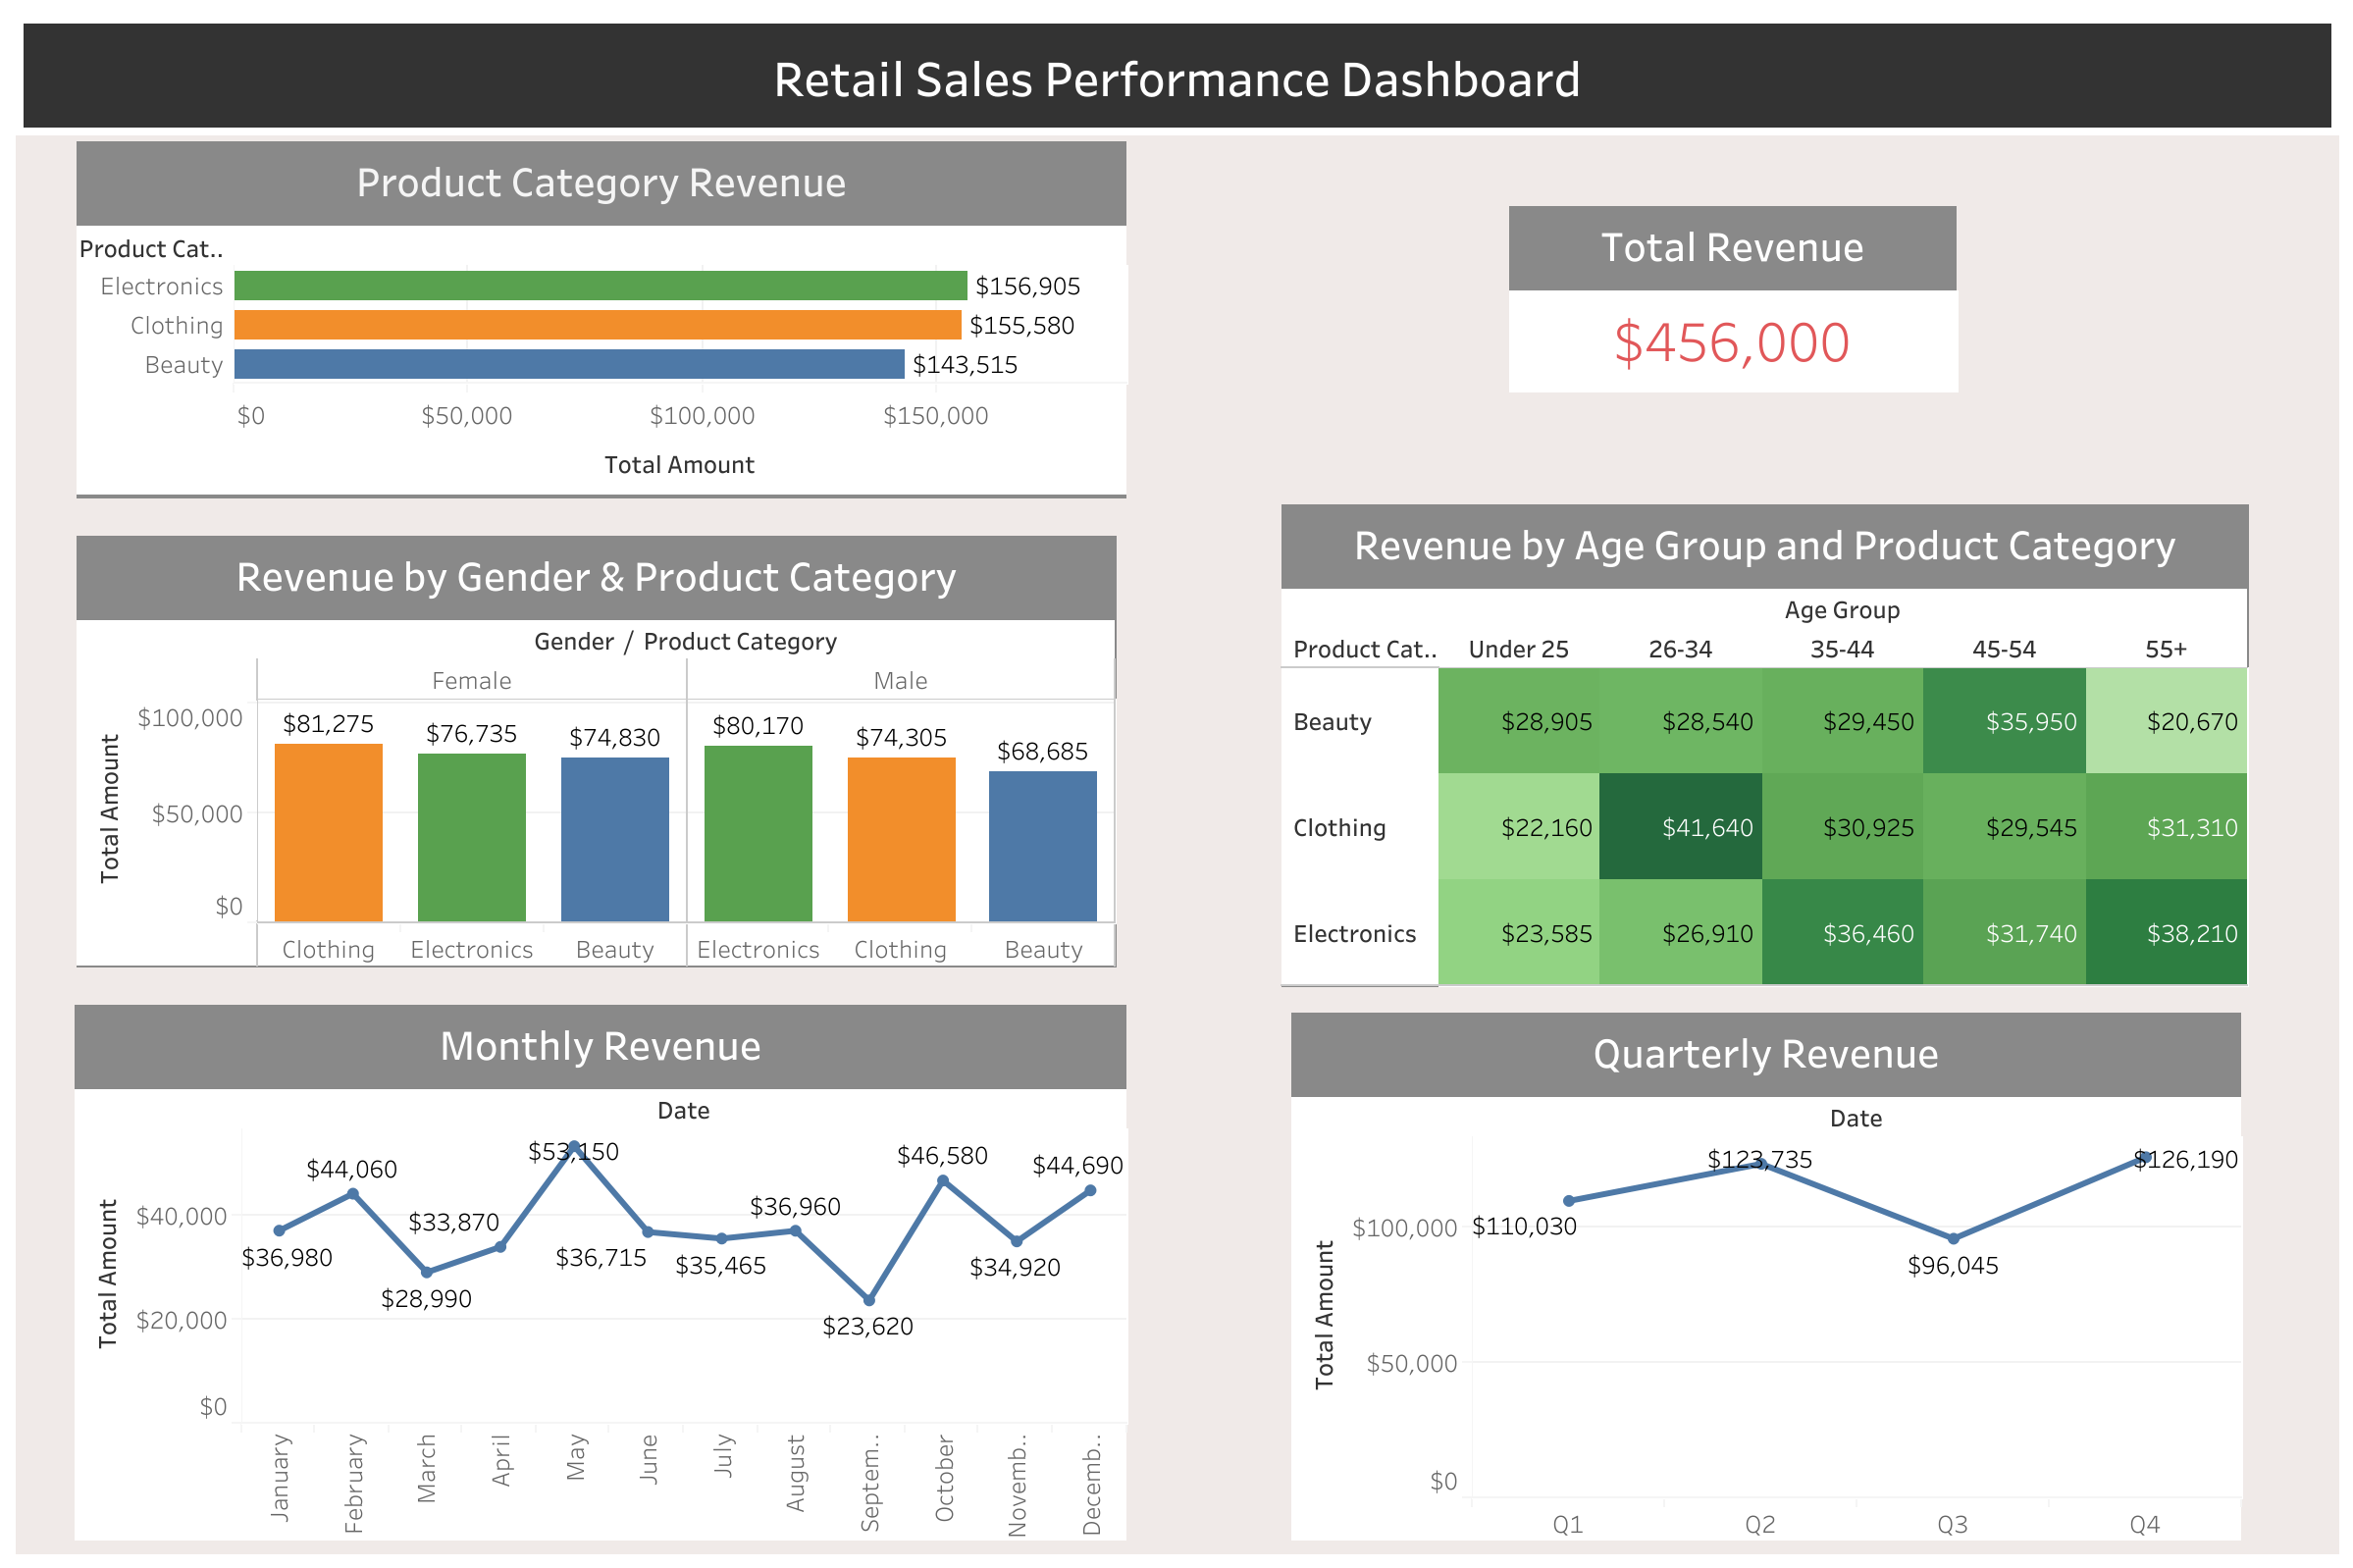

What the dashboard file says about the page in this screenshot:
{"tool":"tableau","page":{"name":"Retail Sales Performance Dashboard","canvas":[1200,800],"ordinal":0},"visuals":[{"type":"title","box":[8,8,1184,61]},{"type":"worksheet","title":"Product Category Revenue","mark":"Automatic","rows":["Product_Category"],"cols":["Total_Amount"],"box":[39,72,535,182]},{"type":"worksheet","title":"Total Revenue","mark":"Automatic","box":[769,105,228,94]},{"type":"worksheet","title":"Revenue by Age Group and Product Category","mark":"Automatic","rows":["Product_Category"],"cols":["Age_Group"],"box":[653,257,493,246]},{"type":"worksheet","title":"Revenue by Gender","mark":"Automatic","rows":["Total_Amount"],"cols":["Gender","Product_Category"],"box":[39,273,530,220]},{"type":"worksheet","title":"Monthly Revenue","mark":"Automatic","rows":["Total_Amount"],"cols":["Date"],"box":[38,512,536,273]},{"type":"worksheet","title":"Quarterly Revenue","mark":"Automatic","rows":["Total_Amount"],"cols":["Date"],"box":[658,516,484,269]}]}

Visuals, with their boxes in screenshot pixels (x1, y1, x2, y2), scaled from the page's 1200x800 canvas onto the 2353x1568 screenshot:
title: 16,16,2337,135
"Product Category Revenue" worksheet: 77,141,1125,497
"Total Revenue" worksheet: 1508,206,1955,391
"Revenue by Age Group and Product Category" worksheet: 1281,503,2247,986
"Revenue by Gender" worksheet: 77,535,1116,967
"Monthly Revenue" worksheet: 75,1004,1125,1539
"Quarterly Revenue" worksheet: 1290,1012,2239,1539
